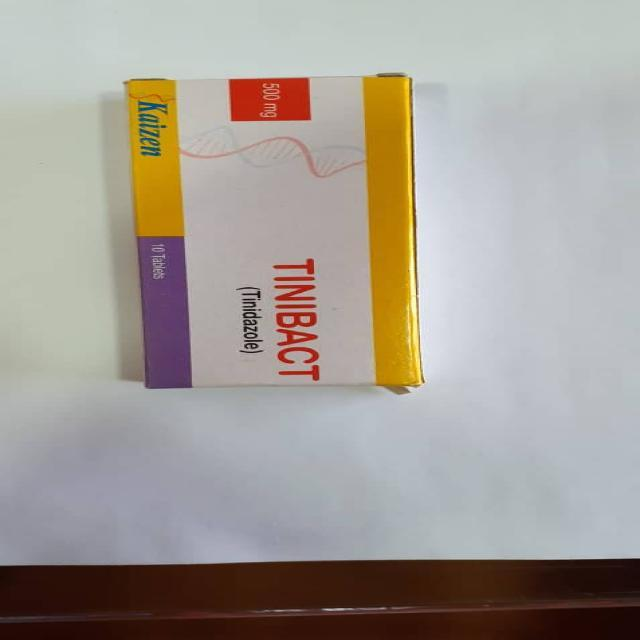drug-name: (270, 256, 328, 383)
